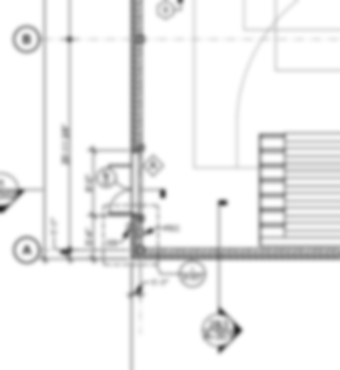double door: (107, 162, 136, 214)
